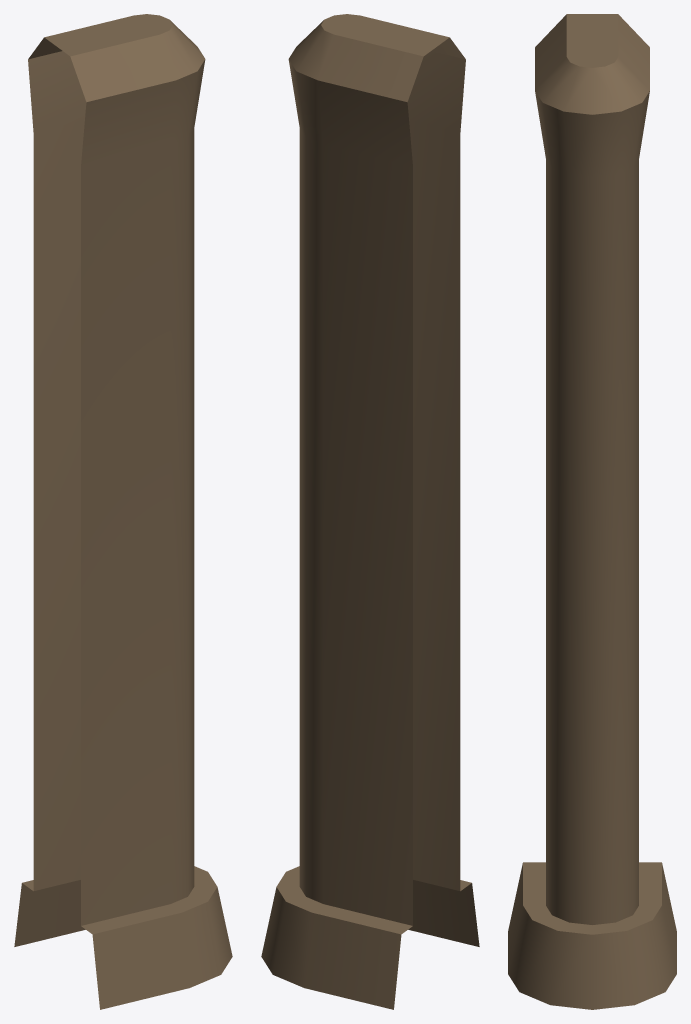
Rendered from wall_segment_cap.FBX.
3 renders of one model, left to right at view 1: azimuth 30°, elevation 25°; view 2: azimuth 150°, elevation 25°; view 3: azimuth 270°, elevation 25°, orthographic.
Parts seen in each view (by area): view 1: wall_segment_cap; view 2: wall_segment_cap; view 3: wall_segment_cap.
Part boxes in pixels (bbox=[...]): wall_segment_cap: bbox=[14, 14, 232, 1009]; wall_segment_cap: bbox=[261, 14, 479, 1009]; wall_segment_cap: bbox=[508, 14, 676, 1009].
Size of the model in its own units: 100 by 543 by 90.57.
